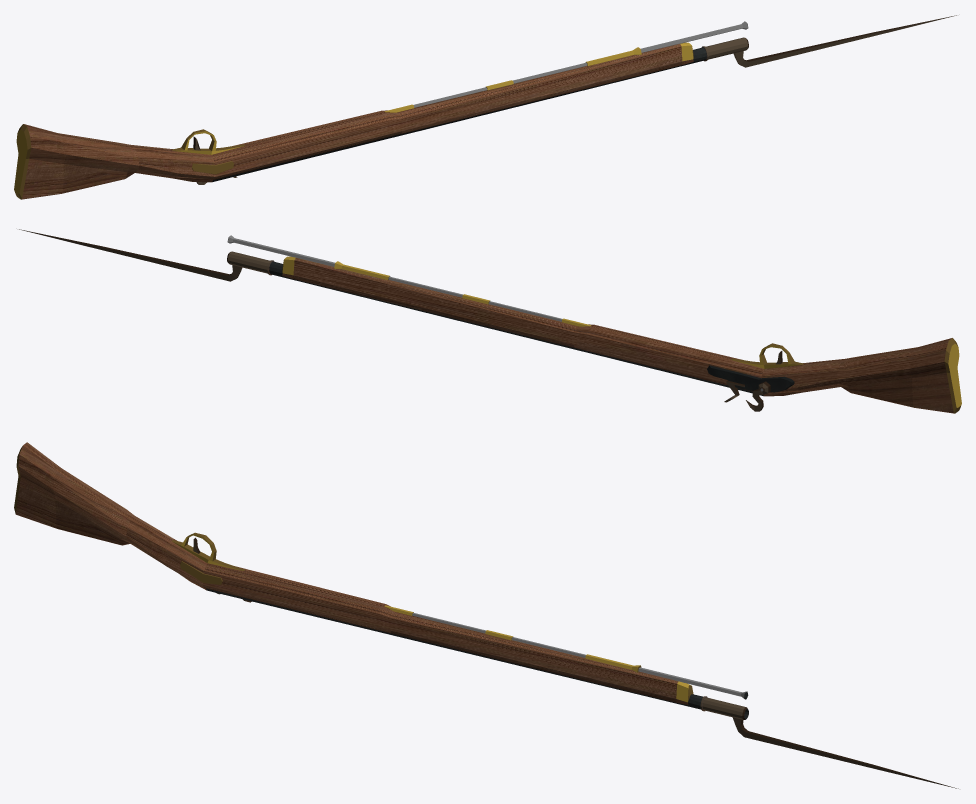
Rendered from BrownBessMusket.fbx.
3 views of the same model, one above another, from view 1: azimuth 30°, elevation 25°; view 2: azimuth 150°, elevation 25°; view 3: azimuth 330°, elevation 25° (orthographic).
Parts seen in each view (by area): view 1: ZomboidBrownBessMusket; view 2: ZomboidBrownBessMusket; view 3: ZomboidBrownBessMusket.
Part boxes in pixels (bbox=[...]): ZomboidBrownBessMusket: bbox=[14, 15, 956, 199]; ZomboidBrownBessMusket: bbox=[19, 229, 961, 413]; ZomboidBrownBessMusket: bbox=[14, 442, 958, 788].
Size of the model in its own units: 1.13 by 0.1339 by 0.036.
